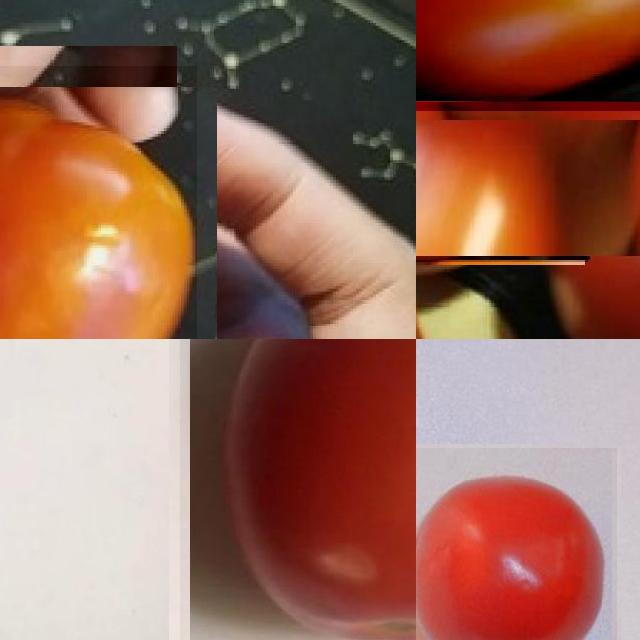0: (416, 88, 573, 256), (416, 0, 640, 110), (549, 256, 640, 339)
Fresh Tomato: (180, 339, 416, 640), (0, 66, 197, 339), (416, 447, 616, 640)
